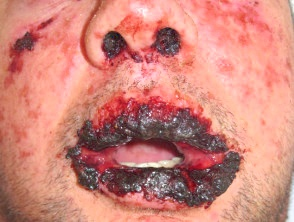SJS-TEN: (48, 63, 263, 222), (0, 0, 73, 97), (96, 19, 188, 67)
